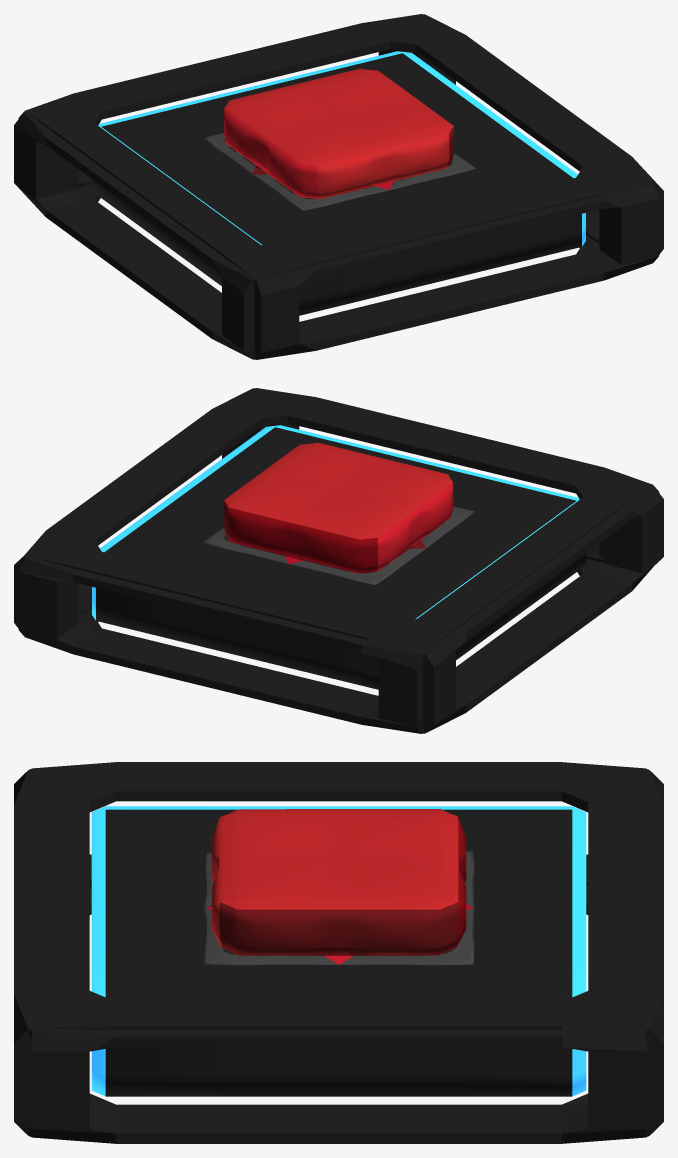
File: black button tile with animation.fbx
The picture shows the model from 3 angles, top to bottom: view 1: azimuth 30°, elevation 25°; view 2: azimuth 150°, elevation 25°; view 3: azimuth 270°, elevation 25°; orthographic projection. The views are drawn at different scales.
Visible parts, largest first — view 1: black tile.001, black tile.000, black tile.002; view 2: black tile.001, black tile.000, black tile.002; view 3: black tile.001, black tile.000, black tile.002.
Part boxes in pixels (bbox=[...]): black tile.001: bbox=[14, 14, 663, 359]; black tile.000: bbox=[92, 51, 585, 315]; black tile.002: bbox=[202, 68, 475, 210]; black tile.001: bbox=[14, 388, 663, 733]; black tile.000: bbox=[92, 425, 585, 689]; black tile.002: bbox=[202, 442, 474, 584]; black tile.001: bbox=[14, 762, 663, 1143]; black tile.000: bbox=[91, 806, 586, 1096]; black tile.002: bbox=[203, 809, 474, 965].
Size of the model in its own units: 501 by 132 by 501.
